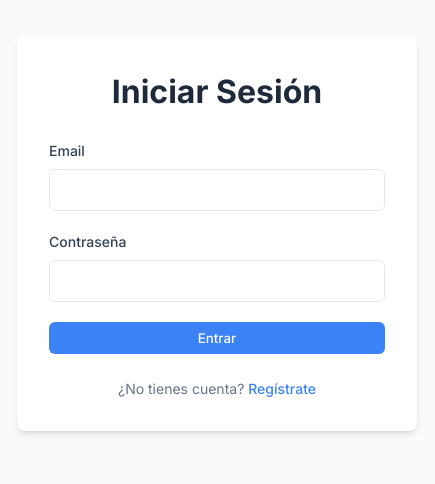
Test: LoginPage Component › shows error message if login fails
Type "wrong@test.com" into the field labelled "Email" at (217, 190), box [49,168,385,210]
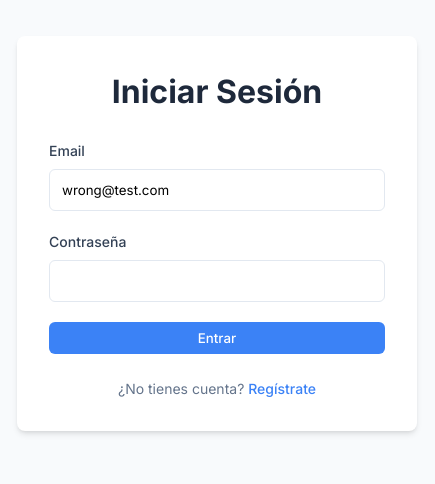
Type "badpass" into the password field labelled "Contraseña" at (217, 280), box [49,260,385,302]
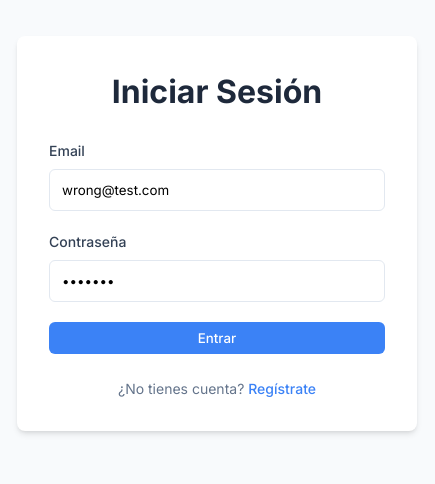
Click the button "Entrar" at (217, 338), box [49,322,385,354]
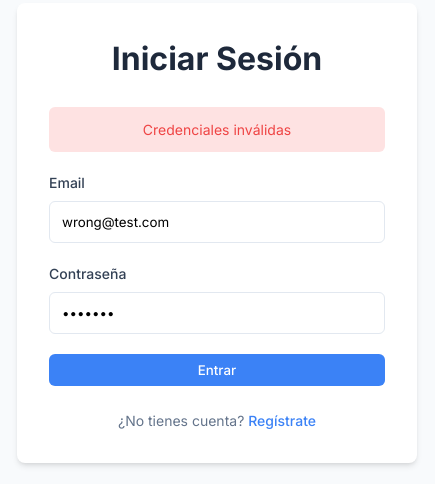
Check: the text "Credenciales inválidas" is shown, box [49,107,385,152]
